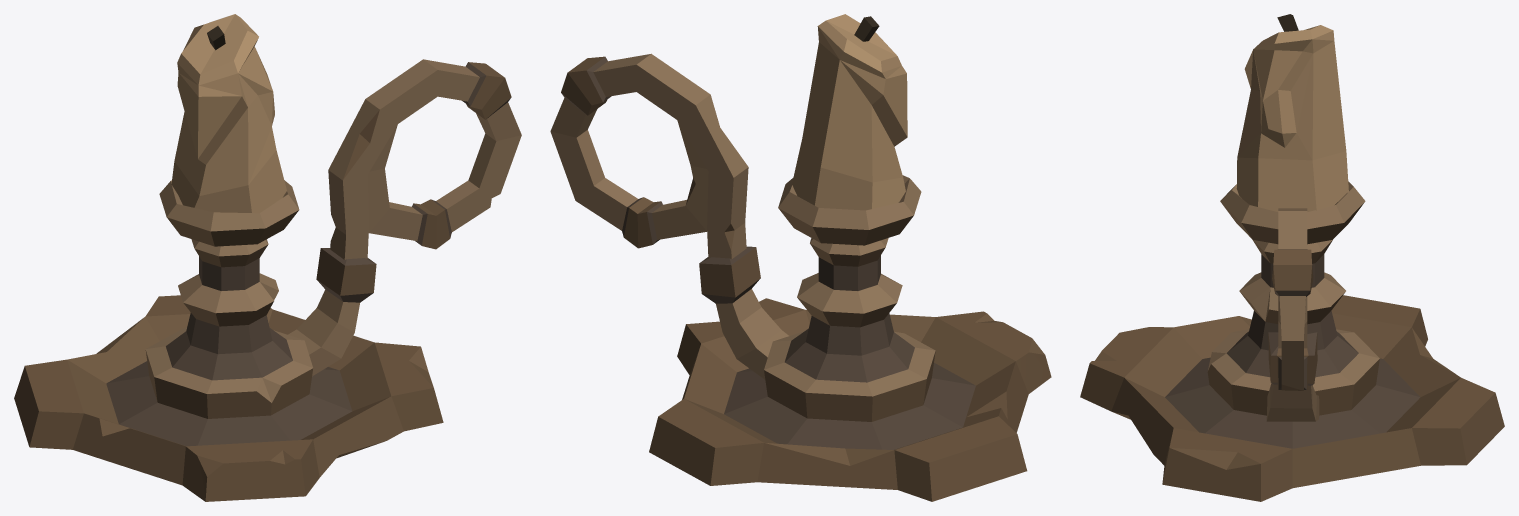
Rendered from SM_Prop_Candle_01.fbx.
The picture shows the model from 3 angles, left to right: view 1: azimuth 30°, elevation 25°; view 2: azimuth 150°, elevation 25°; view 3: azimuth 270°, elevation 25°; orthographic projection. The views are drawn at different scales.
Visible parts, largest first — view 1: SM_Prop_Candle_01; view 2: SM_Prop_Candle_01; view 3: SM_Prop_Candle_01.
Boxes of the visible parts, <box> form: SM_Prop_Candle_01: <box>14,14,521,501</box>; SM_Prop_Candle_01: <box>550,14,1051,501</box>; SM_Prop_Candle_01: <box>1080,14,1504,501</box>.
Bounding box in the file's own units: 35.86 × 28.22 × 27.75.
